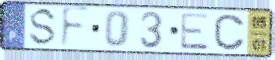0: (103, 9, 132, 50)
3: (139, 10, 167, 50)
C: (212, 13, 248, 52)
E: (179, 11, 212, 51)
F: (58, 5, 91, 51)
S: (27, 6, 60, 48)
